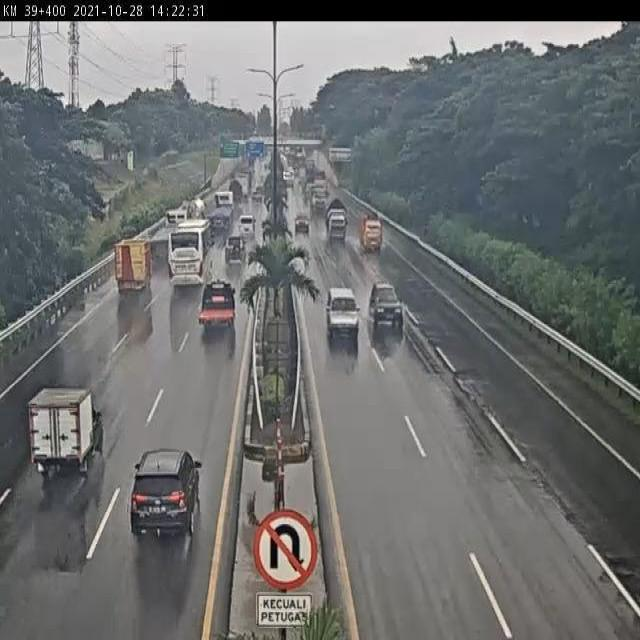car: (31, 385, 104, 483), (129, 448, 202, 543), (325, 284, 361, 341), (367, 280, 404, 329), (223, 232, 248, 263), (236, 211, 257, 237), (293, 209, 312, 235)
truck: (167, 217, 212, 291), (134, 208, 187, 263), (113, 235, 153, 293), (198, 282, 237, 330), (205, 188, 236, 233), (355, 207, 383, 252), (323, 196, 348, 243), (178, 193, 206, 224)
